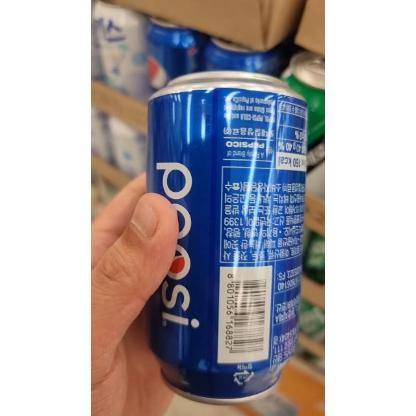Can: (148, 70, 306, 406)
